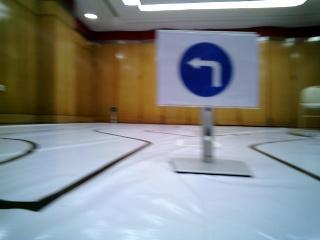left: (163, 35, 246, 101)
